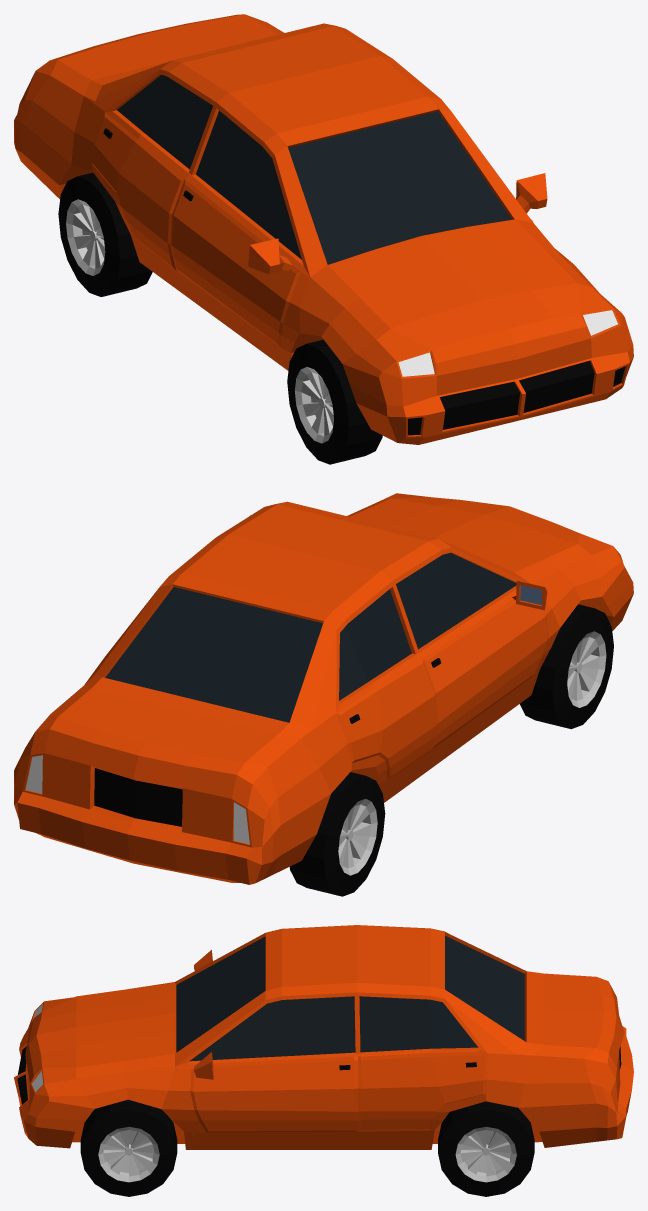
Rendered from Sedan.fbx.
The picture shows the model from 3 angles, top to bottom: view 1: azimuth 30°, elevation 25°; view 2: azimuth 150°, elevation 25°; view 3: azimuth 270°, elevation 25°; orthographic projection. The views are drawn at different scales.
Visible parts, largest first — view 1: Car.Interior.Steering, Wheel.Front.Right, Wheel.Rear.Right, Car.HeadLightGlow; view 2: Car.Interior.Steering, Wheel.Front.Right, Wheel.Rear.Right, Car.TailLightGlow; view 3: Car.Interior.Steering, Wheel.Front.Left, Wheel.Rear.Left.
Part boxes in pixels (x1,y1,x2,y2): Car.Interior.Steering: (14, 14, 633, 444); Wheel.Front.Right: (287, 339, 382, 464); Wheel.Rear.Right: (58, 172, 152, 296); Car.HeadLightGlow: (398, 310, 617, 376); Car.Interior.Steering: (14, 493, 633, 884); Wheel.Front.Right: (520, 604, 613, 729); Wheel.Rear.Right: (289, 772, 385, 896); Car.TailLightGlow: (25, 755, 249, 844); Car.Interior.Steering: (14, 925, 633, 1149); Wheel.Front.Left: (80, 1099, 177, 1196); Wheel.Rear.Left: (438, 1101, 534, 1196).
Size of the model in its own units: 193 by 153 by 448.
